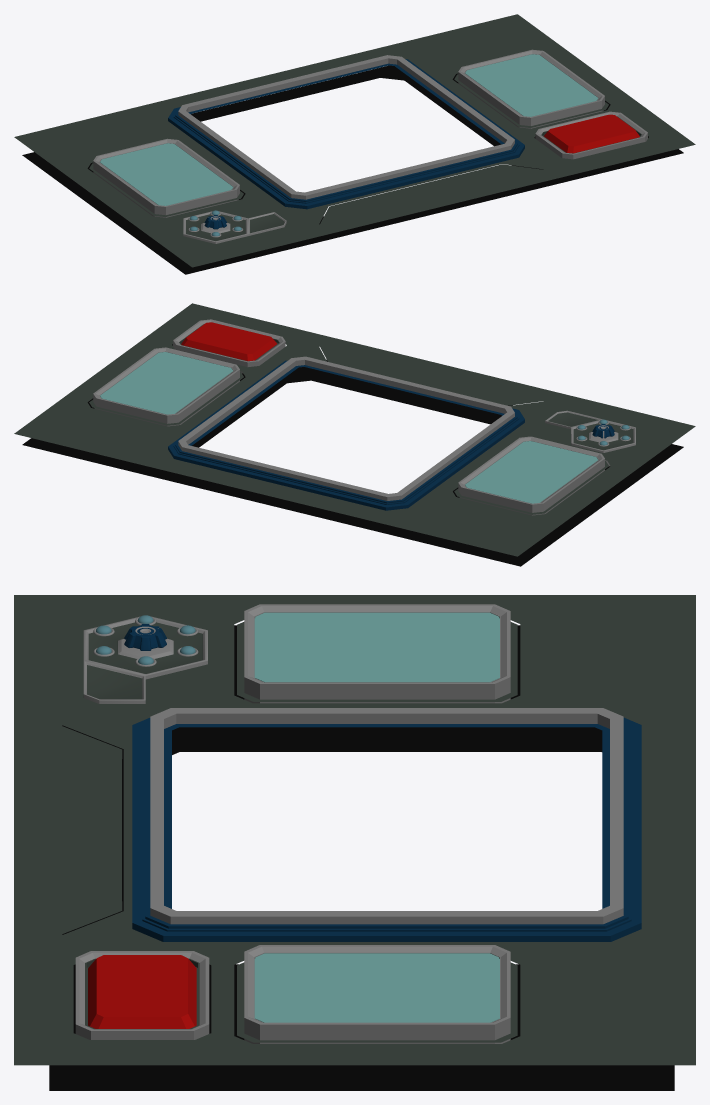
File: Tabellone.fbx
The picture shows the model from 3 angles, top to bottom: view 1: azimuth 30°, elevation 25°; view 2: azimuth 150°, elevation 25°; view 3: azimuth 270°, elevation 25°; orthographic projection. The views are drawn at different scales.
Visible parts, largest first — view 1: BaseTabelloneCentro.006, DisplayCarta.001, SchermoGriglia.001, Plane.001, BaseBottone.004, BaseEnergia.003, BaseBottone.003; view 2: BaseTabelloneCentro.006, DisplayCarta.001, SchermoGriglia.001, Plane.001, BaseBottone.004, BaseEnergia.003, BaseBottone.003; view 3: BaseTabelloneCentro.006, DisplayCarta.001, SchermoGriglia.001, Plane.001, BaseBottone.004, BaseEnergia.003, BaseBottone.003, ManopolaEnergia.003.
Boxes of the visible parts, <box> form: BaseTabelloneCentro.006: <box>14,14,695,267</box>; DisplayCarta.001: <box>93,49,604,217</box>; SchermoGriglia.001: <box>168,55,524,209</box>; Plane.001: <box>22,65,683,274</box>; BaseBottone.004: <box>544,114,639,153</box>; BaseEnergia.003: <box>183,211,286,243</box>; BaseBottone.003: <box>535,111,647,159</box>; BaseTabelloneCentro.006: <box>14,303,695,556</box>; DisplayCarta.001: <box>93,347,604,515</box>; SchermoGriglia.001: <box>168,356,524,510</box>; Plane.001: <box>22,344,683,566</box>; BaseBottone.004: <box>181,322,276,361</box>; BaseEnergia.003: <box>545,410,635,466</box>; BaseBottone.003: <box>173,319,285,373</box>; BaseTabelloneCentro.006: <box>14,595,695,1065</box>; DisplayCarta.001: <box>244,604,510,1043</box>; SchermoGriglia.001: <box>132,708,641,941</box>; Plane.001: <box>49,625,674,1090</box>; BaseBottone.004: <box>88,955,196,1028</box>; BaseEnergia.003: <box>83,616,207,703</box>; BaseBottone.003: <box>75,951,209,1039</box>; ManopolaEnergia.003: <box>124,624,166,650</box>.
Size of the model in its own units: 356 by 20.09 by 218.
